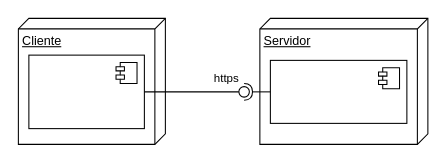
Some shapes in this 446 by 163 pixel diagram are drawn without their labels. The centre of each missing label's shape, as x and y in pixels:
"«access» index.html" belongs at pixel 86 91.
"«service» SrvForm .php" belongs at pixel 338 91.
